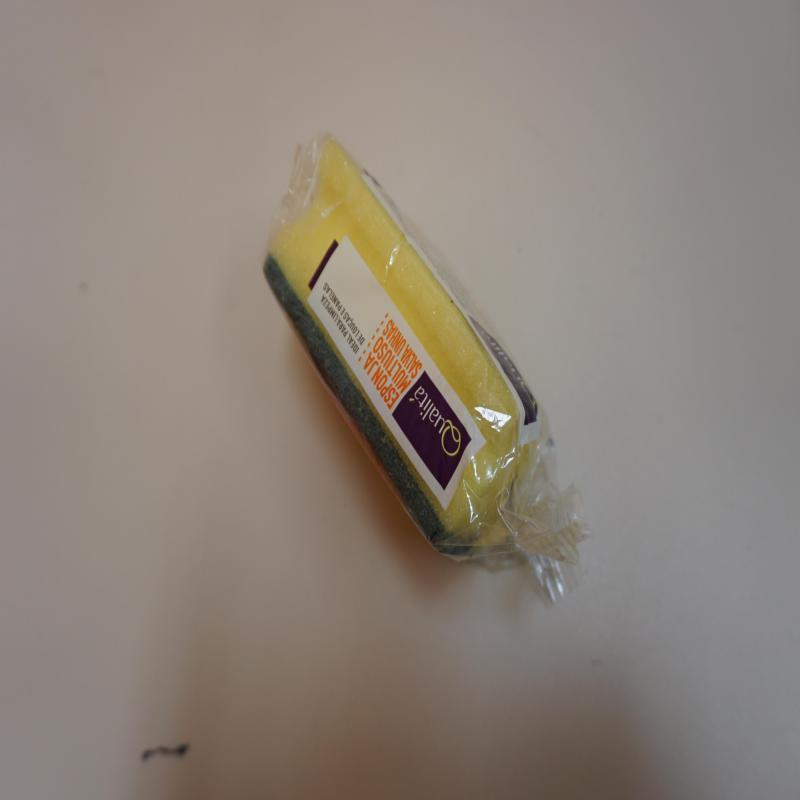Sponge: (263, 136, 588, 600)
